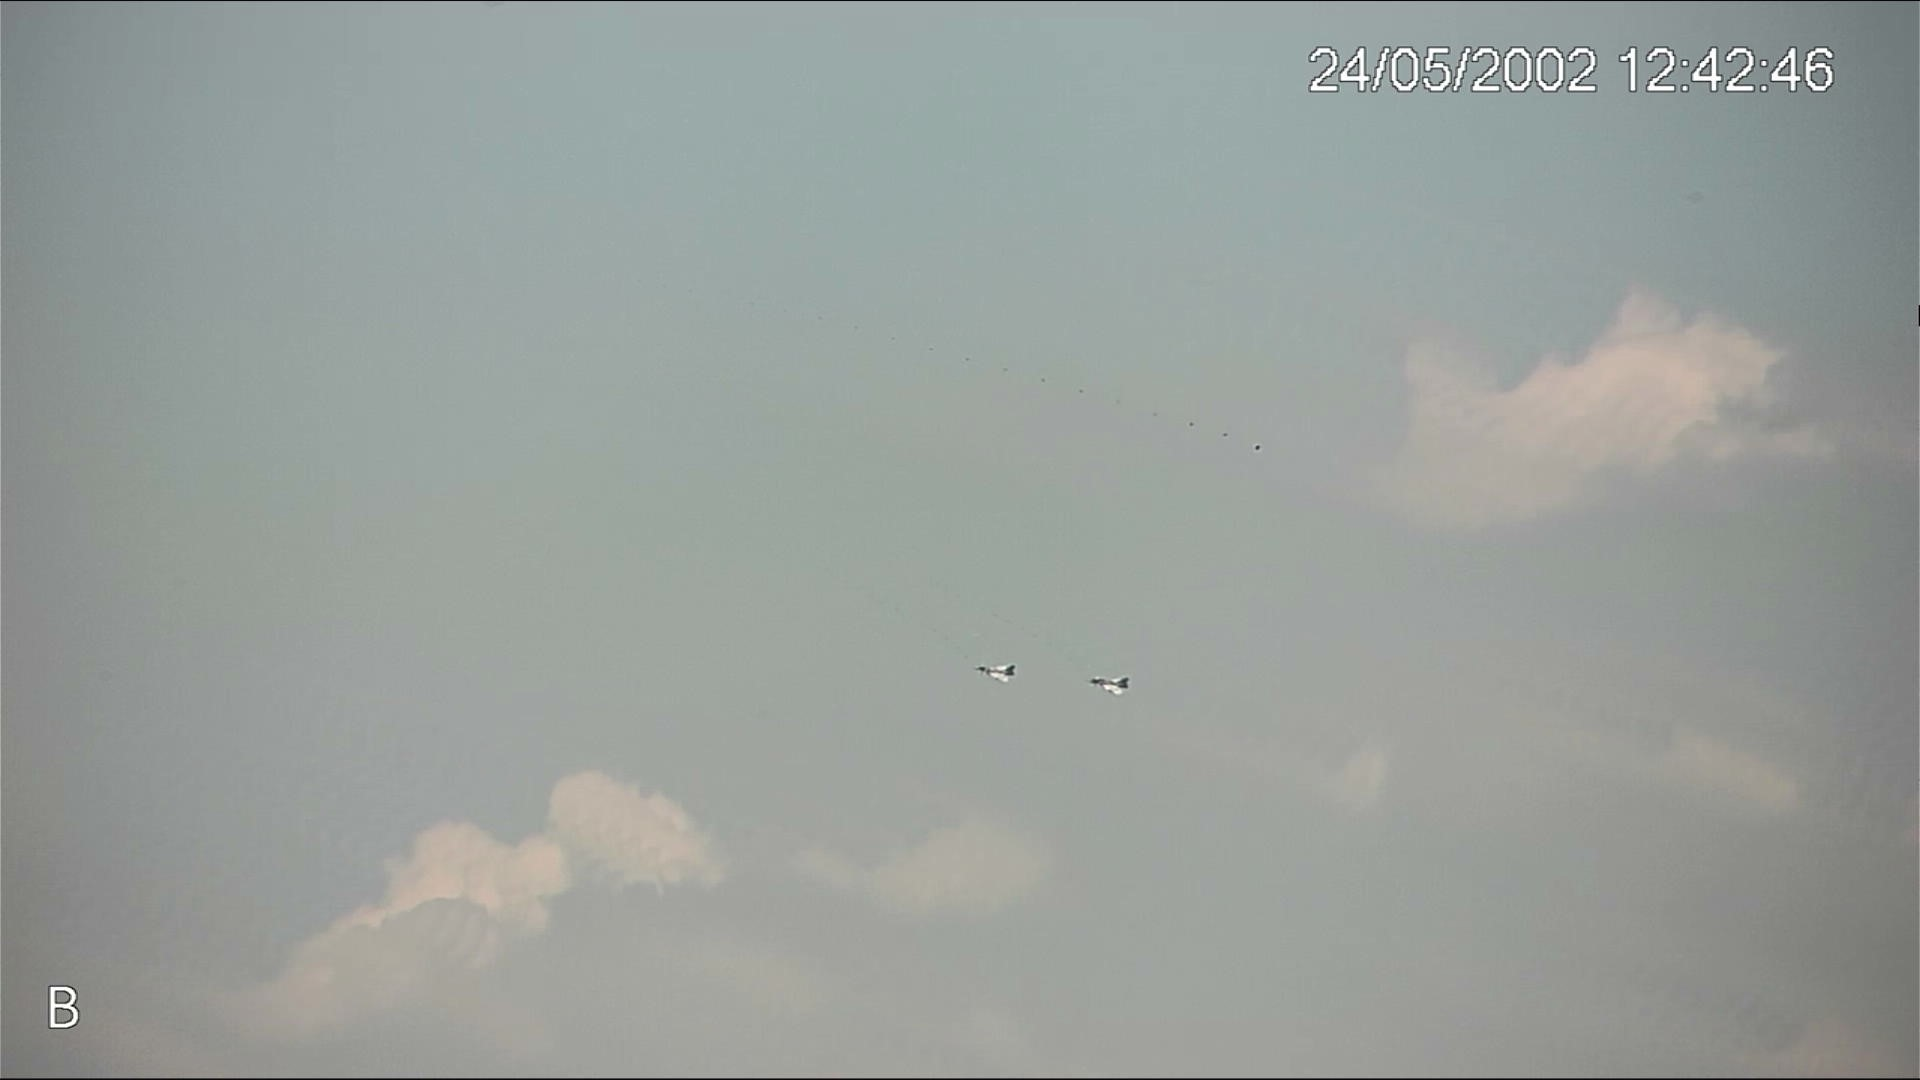SU_30: (1089, 674, 1133, 698), (975, 662, 1018, 684)
